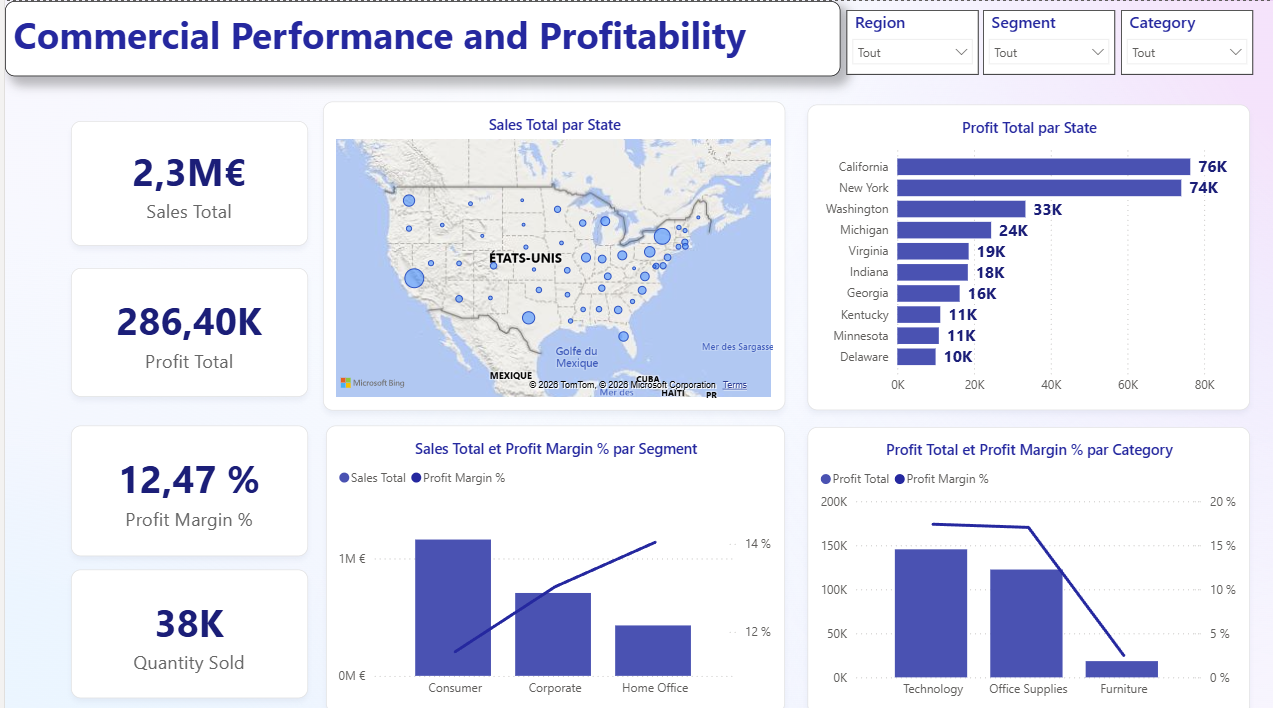

This screenshot's page, from the dashboard's own definition file:
{"tool":"powerbi","page":{"name":"Page 2","canvas":[1280,720],"ordinal":0},"visuals":[{"type":"map","fields":{"Category":["SampleSuperstore.State"],"Size":["Mesures.Sales Total"]},"box":[321,101.5,466.4,311.9],"z":0},{"type":"actionButton","box":[0,0,100,40],"z":1000},{"type":"clusteredBarChart","fields":{"Category":["SampleSuperstore.State"],"Y":["Mesures.Profit Total"]},"box":[810.1,104.5,446.7,308.9],"z":2000},{"type":"lineStackedColumnComboChart","fields":{"Category":["SampleSuperstore.Segment"],"Y2":["Mesures.Profit Margin %"],"Y":["Mesures.Sales Total"]},"box":[324,428.5,463.3,290.7],"z":3000},{"type":"lineStackedColumnComboChart","fields":{"Category":["SampleSuperstore.Category"],"Y":["Mesures.Profit Total"],"Y2":["Mesures.Profit Margin %"]},"box":[810.1,430,446.7,290.7],"z":4000},{"type":"textbox","box":[0,0,843.4,75.7],"z":5000},{"type":"card","fields":{"Values":["Mesures.Sales Total"]},"box":[66.6,121.1,239.2,125.7],"z":6000},{"type":"card","fields":{"Values":["Mesures.Profit Total"]},"box":[66.6,269.5,239.2,130.2],"z":7000},{"type":"card","fields":{"Values":["Mesures.Profit Margin %"]},"box":[66.6,428.5,239.2,131.7],"z":8000},{"type":"card","fields":{"Values":["Mesures.Quantity Sold"]},"box":[66.6,573.9,239.2,130.2],"z":9000},{"type":"slicer","fields":{"Values":["SampleSuperstore.Region"]},"box":[849.5,9.1,133.3,65.1],"z":9001},{"type":"slicer","fields":{"Values":["SampleSuperstore.Segment"]},"box":[987.3,9.1,133.3,65.1],"z":9002},{"type":"slicer","fields":{"Values":["SampleSuperstore.Category"]},"box":[1126.6,9.1,133,65.1],"z":9003}]}

Visuals, with their boxes in screenshot pixels (x1, y1, x2, y2), scaled from the page's 1280x720 canvas onto the 1273x708 screenshot:
map - SampleSuperstore.State x Mesures.Sales Total: x1=319, y1=100, x2=783, y2=407
actionButton: x1=0, y1=0, x2=99, y2=39
clusteredBarChart - SampleSuperstore.State x Mesures.Profit Total: x1=806, y1=103, x2=1250, y2=407
lineStackedColumnComboChart - SampleSuperstore.Segment x Mesures.Profit Margin %: x1=322, y1=421, x2=783, y2=707
lineStackedColumnComboChart - SampleSuperstore.Category x Mesures.Profit Total: x1=806, y1=423, x2=1250, y2=707
textbox: x1=0, y1=0, x2=839, y2=74
card - Mesures.Sales Total: x1=66, y1=119, x2=304, y2=243
card - Mesures.Profit Total: x1=66, y1=265, x2=304, y2=393
card - Mesures.Profit Margin %: x1=66, y1=421, x2=304, y2=551
card - Mesures.Quantity Sold: x1=66, y1=564, x2=304, y2=692
slicer - SampleSuperstore.Region: x1=845, y1=9, x2=977, y2=73
slicer - SampleSuperstore.Segment: x1=982, y1=9, x2=1114, y2=73
slicer - SampleSuperstore.Category: x1=1120, y1=9, x2=1253, y2=73
